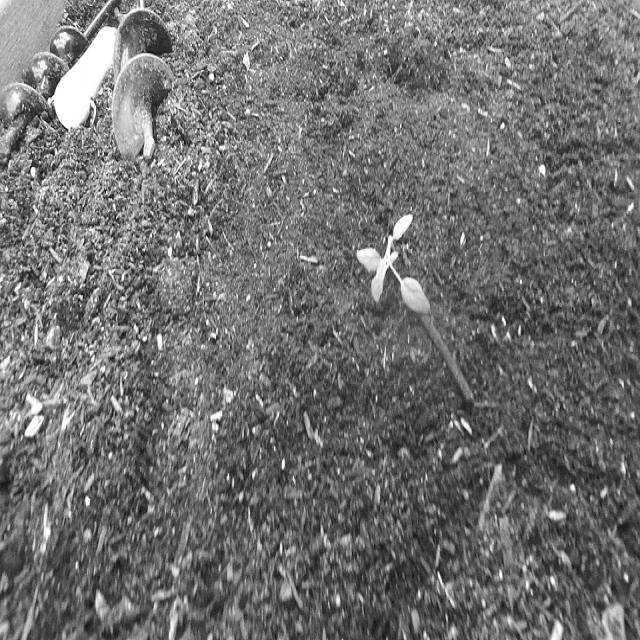Healthy: (349, 200, 442, 329)
